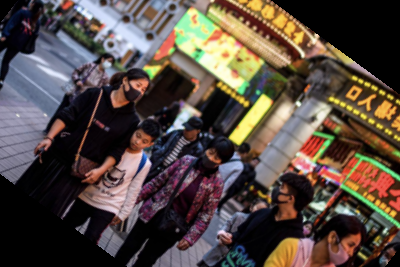mask_weared_incorrect: (319, 210, 369, 267)
